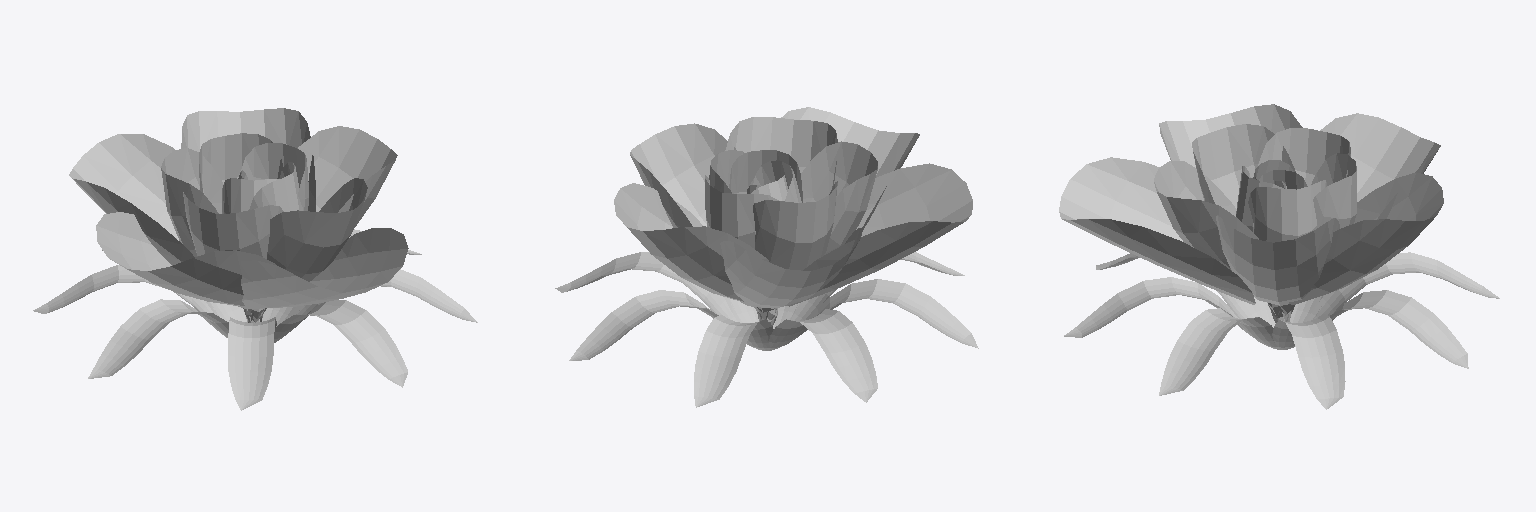
The model's file is FlowerTopModel_03_seq_0032.obj.
The picture shows the model from 3 angles: view 1: azimuth 30°, elevation 25°; view 2: azimuth 150°, elevation 25°; view 3: azimuth 270°, elevation 25°; orthographic projection.
Visible parts, largest first — view 1: FlowerTopModel_03; view 2: FlowerTopModel_03; view 3: FlowerTopModel_03.
Part boxes in pixels (bbox=[...]): FlowerTopModel_03: bbox=[33, 108, 477, 410]; FlowerTopModel_03: bbox=[555, 107, 978, 407]; FlowerTopModel_03: bbox=[1059, 104, 1499, 409].
Size of the model in its own units: 777 by 360 by 785.